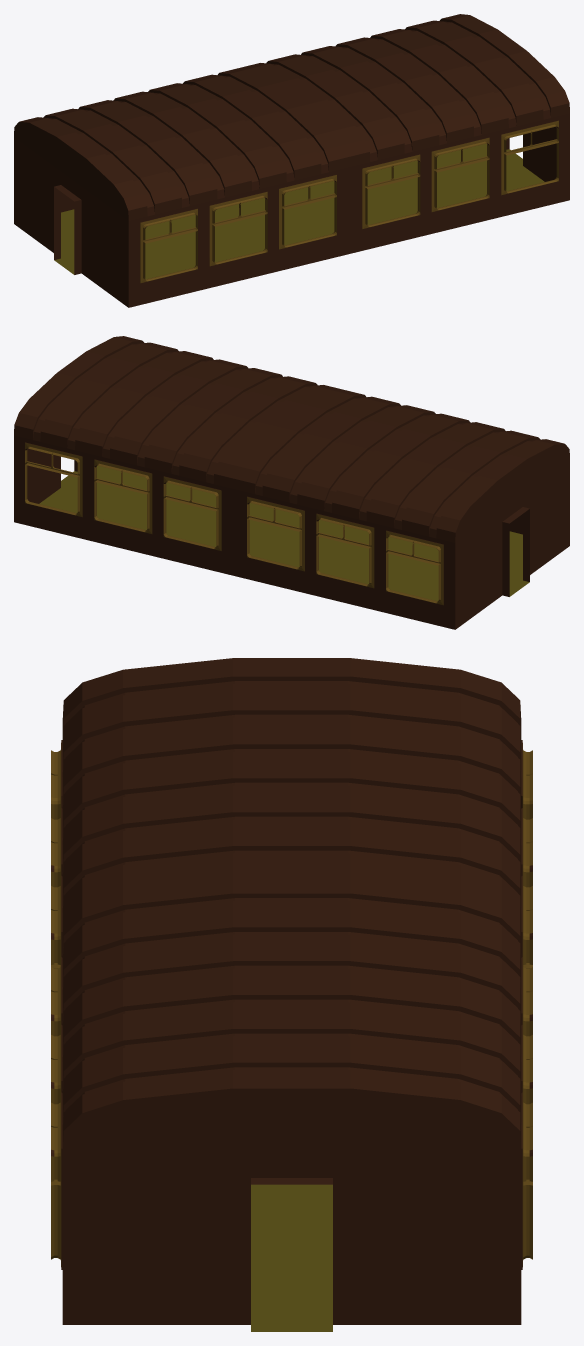
The model's file is Carriage 1.fbx.
3 views of the same model, one above another, from view 1: azimuth 30°, elevation 25°; view 2: azimuth 150°, elevation 25°; view 3: azimuth 270°, elevation 25° (orthographic). The views are drawn at different scales.
Visible parts, largest first — view 1: NewWagon; view 2: NewWagon; view 3: NewWagon.
Boxes of the visible parts, x1,y1,x2,y2 form: NewWagon: [14, 14, 569, 307]; NewWagon: [14, 336, 569, 629]; NewWagon: [51, 658, 532, 1331].
Size of the model in its own units: 6065 by 1503 by 2779.
